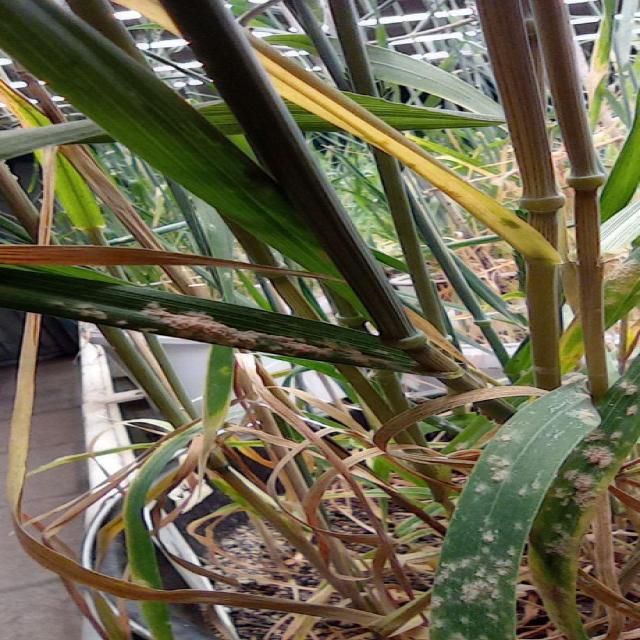wheat-powdery-mildew: (0, 268, 459, 376), (429, 374, 602, 640), (529, 355, 640, 640)
